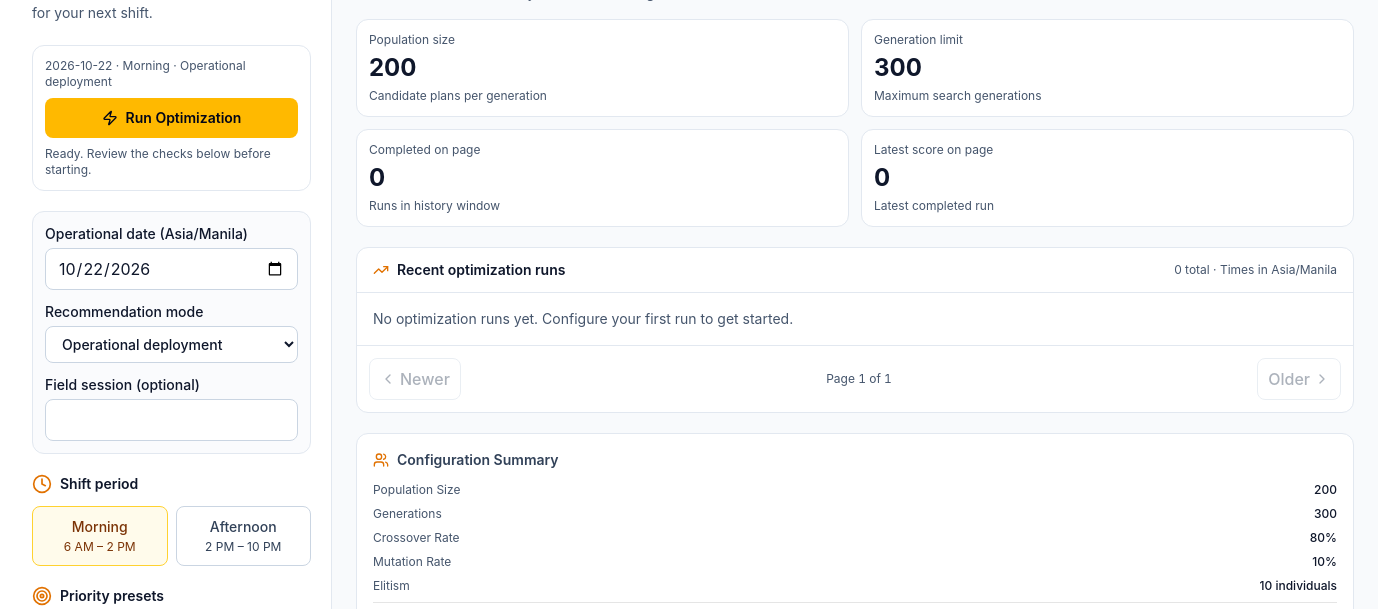
Test case: hides prior readiness immediately while new parameters are checked, and recovers from a failed refresh
In the date field labelled "Operational date (Asia/Manila)": (172, 268) [45,248,298,290], type "2099-01-06"
(page scrolled)
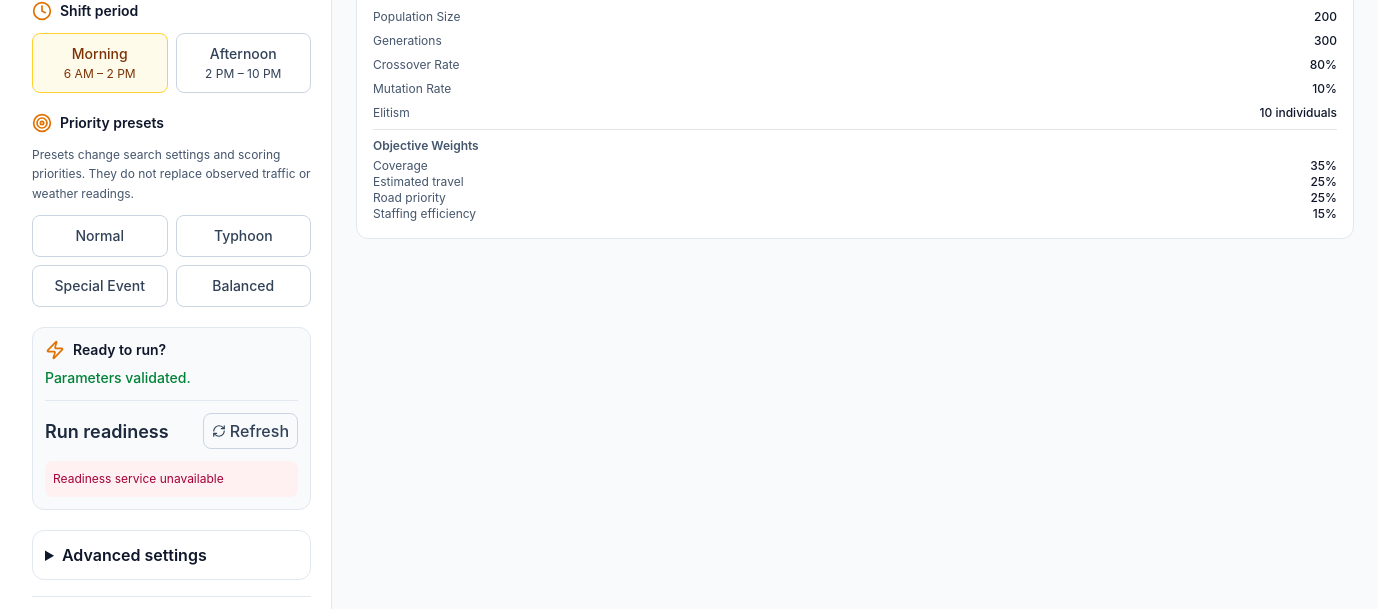
Expected: the text "Readiness service unavailable" is shown, [45,461,298,496]
Click the button with aria-label "Refresh run readiness": (250, 431) [203,413,298,449]
(page scrolled)
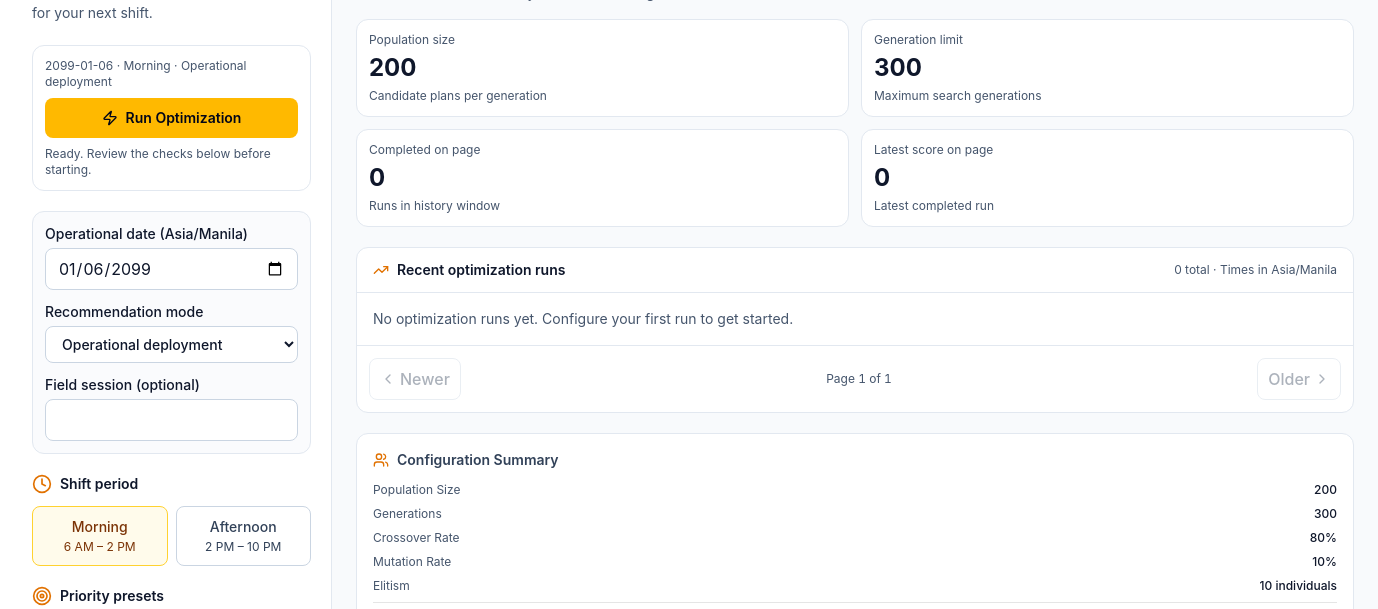
Expected: the button "Run Optimization" is enabled, [45,98,298,138]
